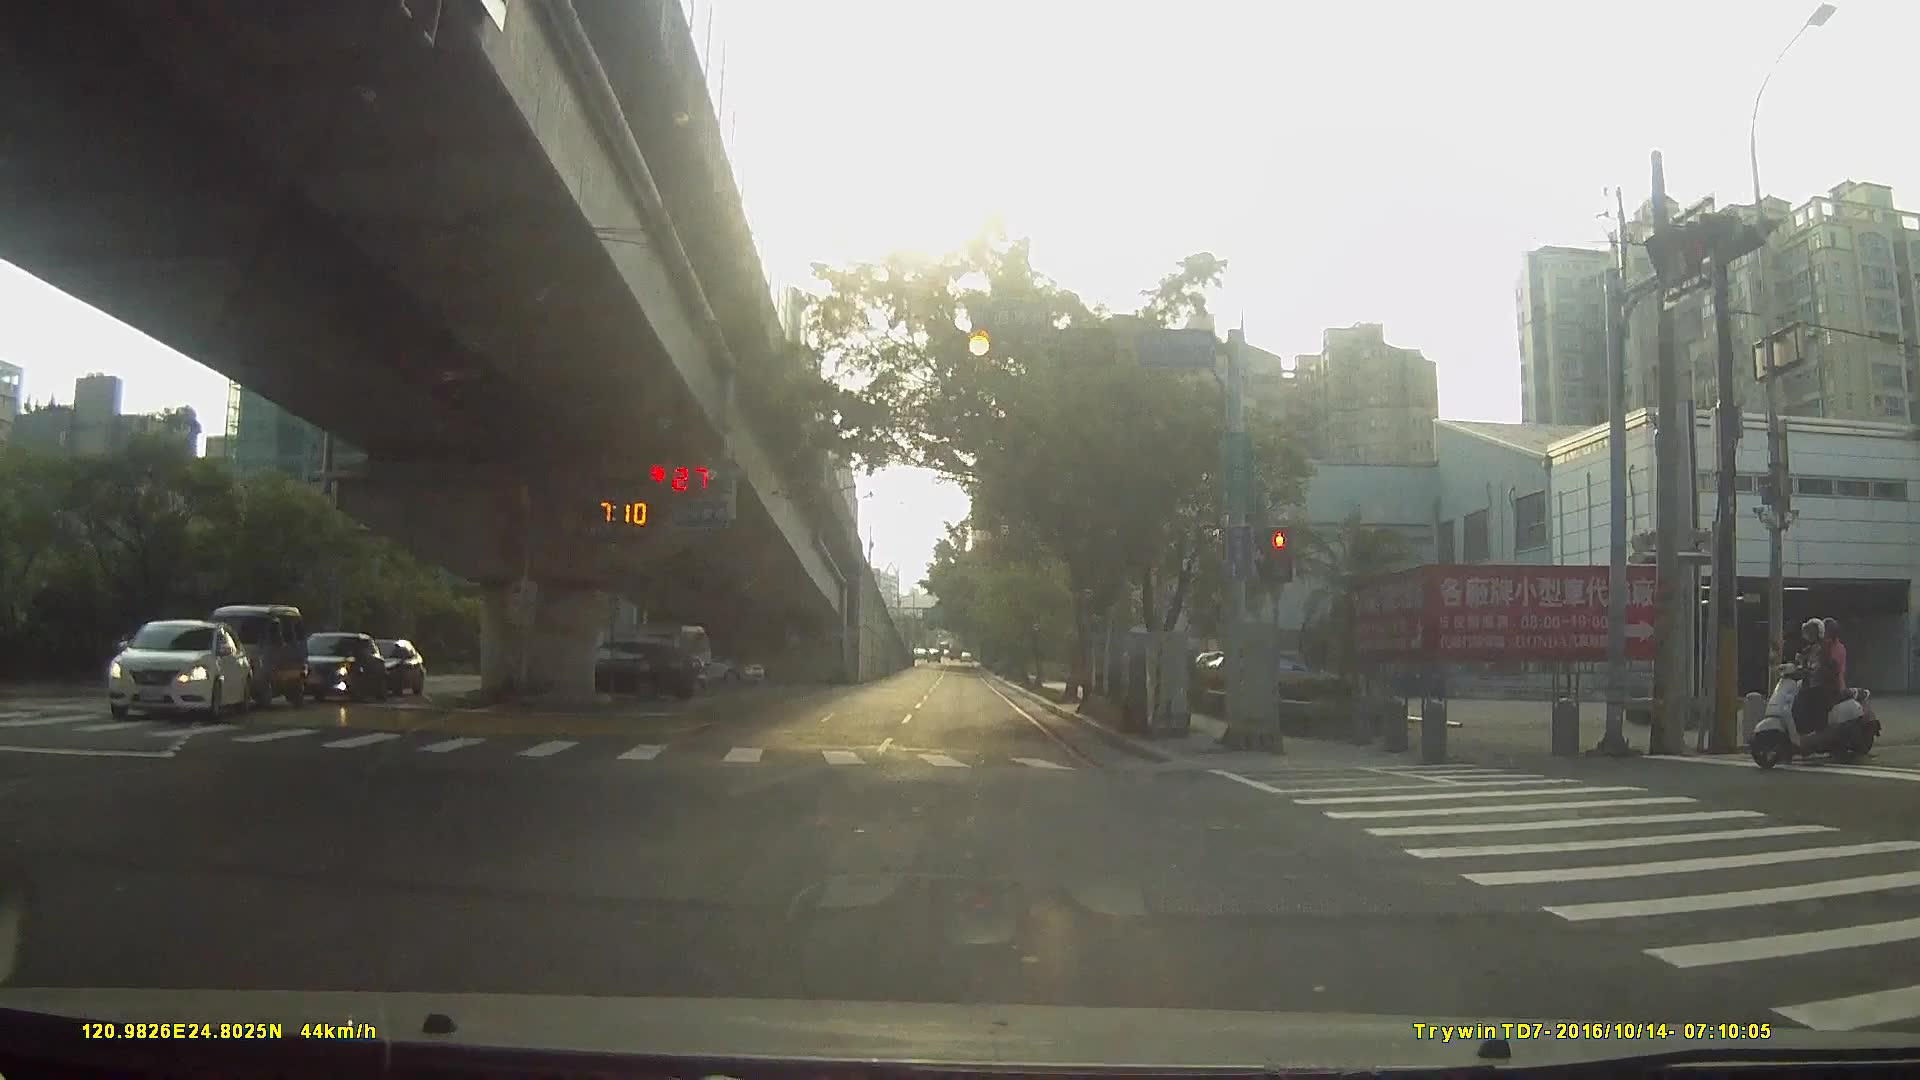rider: (1751, 624, 1877, 773)
vehicle: (93, 615, 252, 724), (199, 602, 300, 709), (547, 639, 703, 706), (281, 631, 384, 705), (341, 638, 422, 696), (668, 646, 764, 691)
